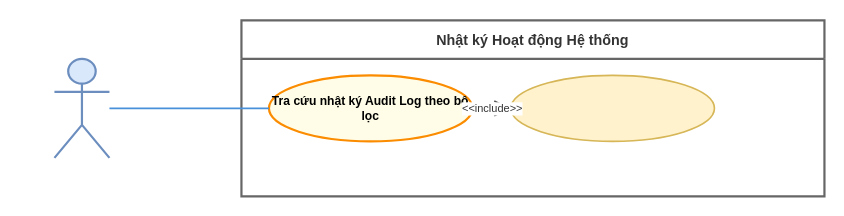
Some shapes in this 844 by 216 pixel diagram are drawn without their labels. Each missing label, with the box of its shape:
Chỉ đọc – Không cho phép sửa hoặc xóa Audit Log: (510, 74, 715, 142)
Quản trị viên (ADMIN): (53, 57, 110, 158)
